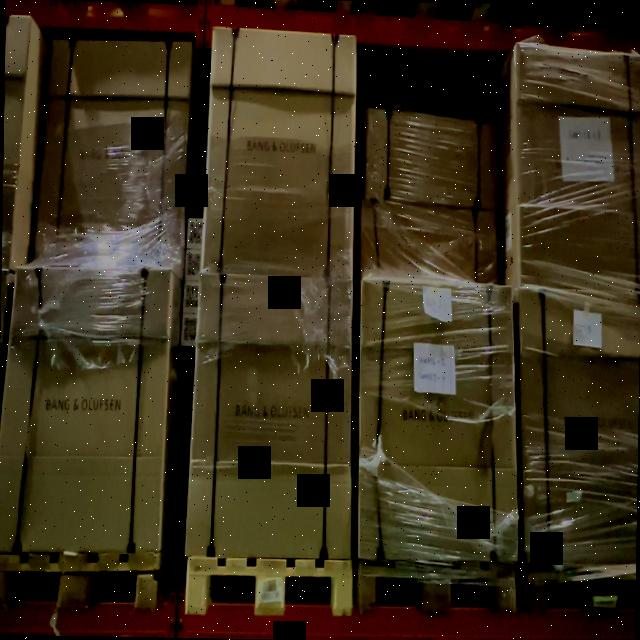box: (1, 268, 168, 550), (186, 278, 354, 554), (356, 285, 516, 564), (206, 28, 360, 274), (38, 41, 187, 260), (509, 47, 640, 295), (520, 297, 640, 558), (362, 99, 502, 222)
